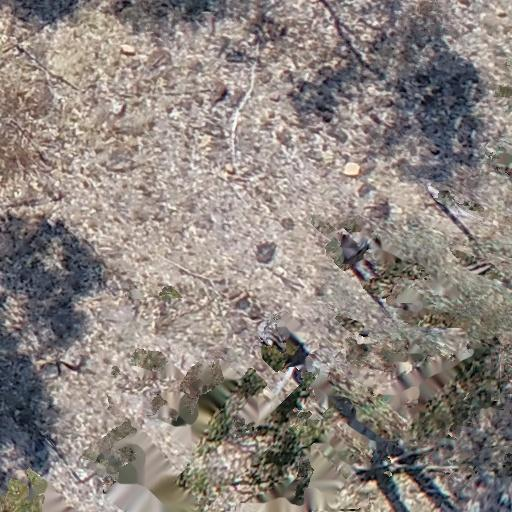stone: (97, 140, 132, 172), (18, 83, 50, 111), (147, 50, 179, 66), (312, 101, 334, 123), (210, 80, 226, 110), (364, 197, 386, 216), (327, 124, 347, 144), (174, 195, 197, 212), (224, 285, 247, 302), (62, 342, 79, 364), (168, 102, 192, 116), (318, 58, 334, 78), (215, 33, 229, 55), (164, 226, 180, 245), (254, 184, 272, 200), (257, 241, 272, 260), (274, 128, 289, 146), (261, 107, 275, 126), (189, 216, 211, 228), (282, 115, 302, 128), (343, 162, 360, 176), (278, 69, 293, 84), (258, 70, 272, 86), (127, 80, 141, 96), (231, 42, 247, 56), (233, 86, 243, 108), (105, 1, 125, 12), (415, 71, 430, 85), (243, 31, 257, 46), (202, 135, 215, 151), (356, 181, 370, 195), (152, 308, 166, 322), (190, 93, 202, 109), (360, 102, 376, 114), (132, 207, 146, 220), (224, 165, 239, 177), (190, 122, 208, 132), (282, 214, 294, 229), (246, 308, 262, 319), (185, 60, 202, 70), (120, 45, 135, 56), (111, 100, 122, 114), (428, 186, 440, 198), (135, 180, 147, 192), (298, 77, 306, 94), (494, 6, 508, 15), (489, 128, 500, 139), (91, 200, 100, 212), (383, 118, 393, 128), (429, 146, 438, 156), (307, 126, 319, 133), (272, 92, 280, 101), (385, 98, 392, 108), (360, 124, 368, 132), (286, 91, 292, 99)
